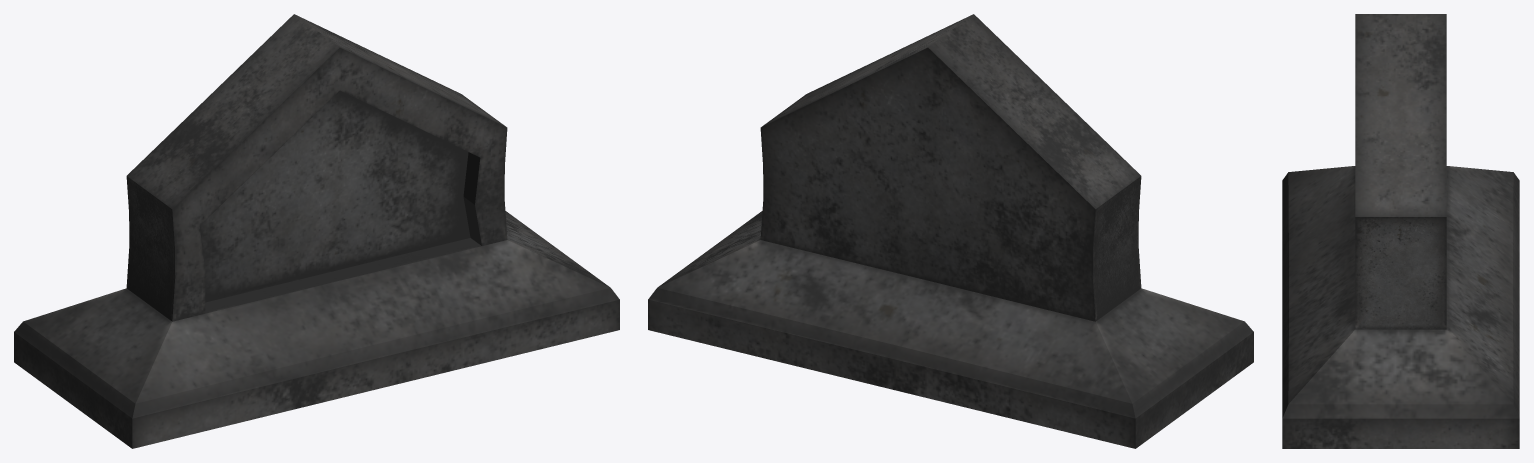
Rendered from tombs_01.fbx.
The picture shows the model from 3 angles, left to right: view 1: azimuth 30°, elevation 25°; view 2: azimuth 150°, elevation 25°; view 3: azimuth 270°, elevation 25°; orthographic projection.
Visible parts, largest first — view 1: tombs_01; view 2: tombs_01; view 3: tombs_01.
Boxes of the visible parts, bbox=[...] form: tombs_01: bbox=[14, 14, 619, 448]; tombs_01: bbox=[648, 14, 1253, 448]; tombs_01: bbox=[1282, 14, 1519, 448].
Bounding box in the file's own units: 0.1645 × 0.1017 × 0.0692.
1 material, 1 textured.
